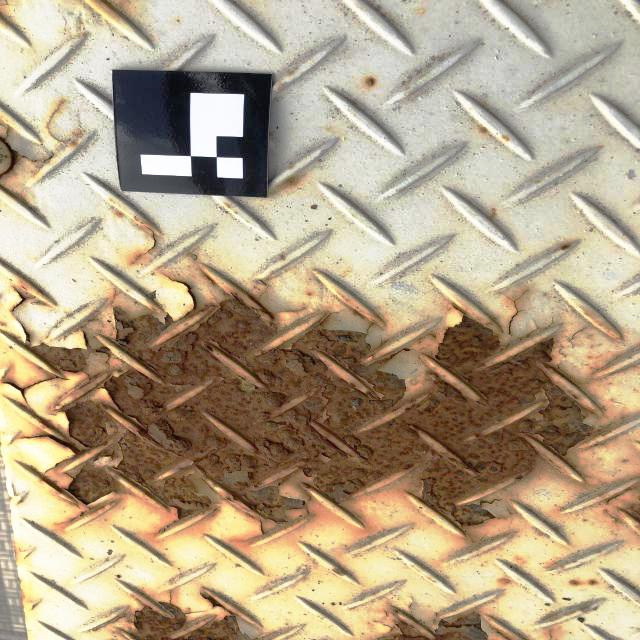Corrosion: (26, 296, 603, 525), (110, 579, 248, 640), (375, 601, 488, 640), (0, 368, 75, 412), (5, 283, 46, 345), (601, 482, 640, 525), (164, 275, 201, 310), (0, 135, 25, 181), (485, 627, 525, 640), (558, 242, 572, 252), (281, 178, 298, 186)
